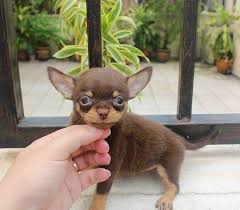chihuahua: (42, 52, 228, 209)
